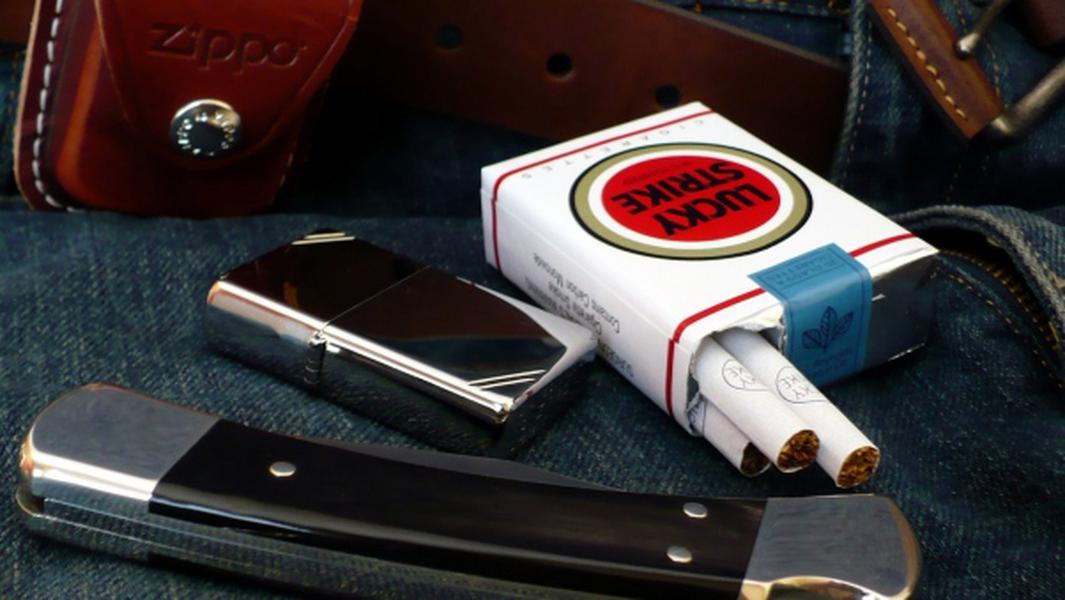lucky_strike_red: (503, 131, 838, 301)
